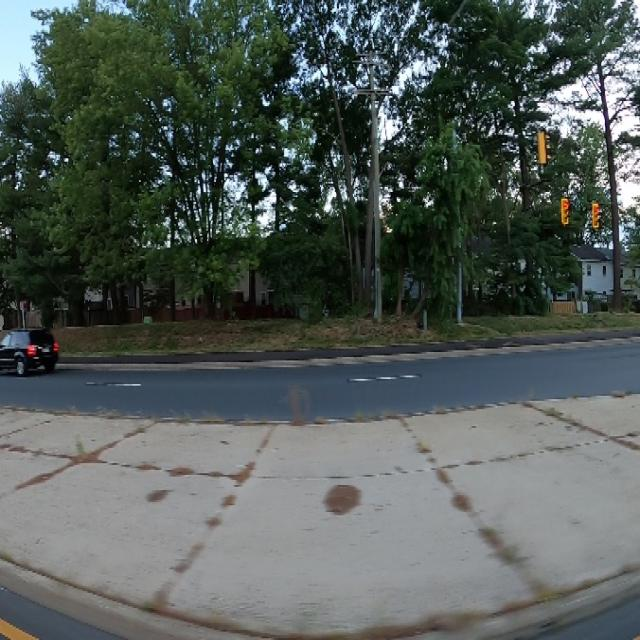car: (0, 316, 64, 385)
